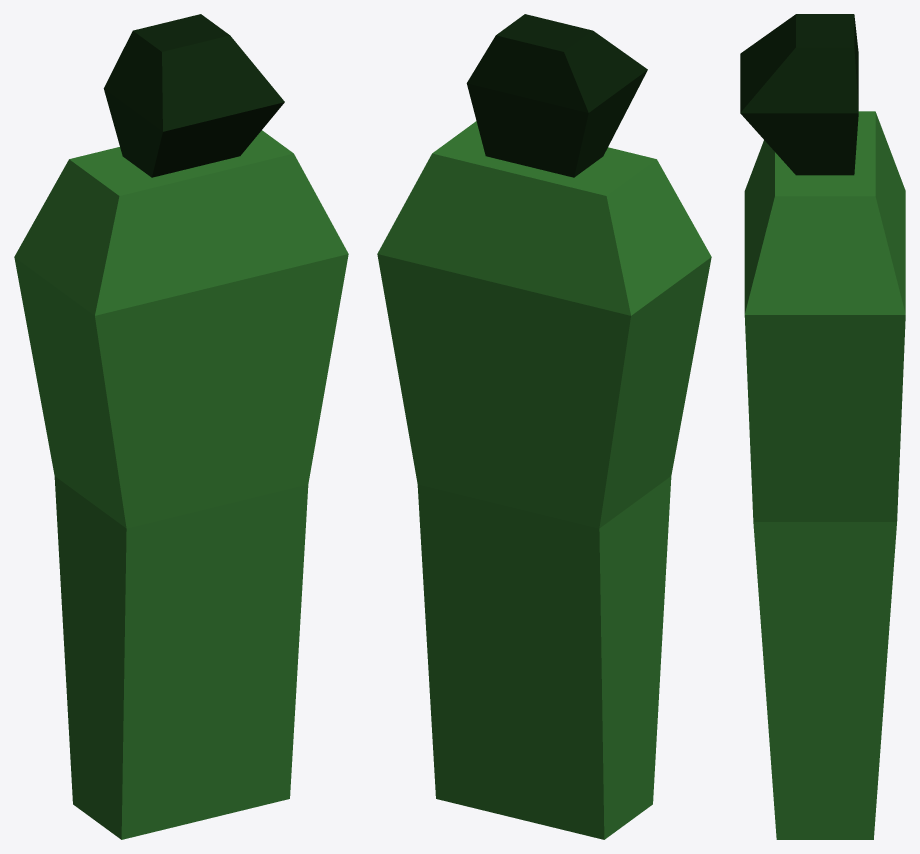
File: Shell.fbx
3 renders of one model, left to right at view 1: azimuth 30°, elevation 25°; view 2: azimuth 150°, elevation 25°; view 3: azimuth 270°, elevation 25°, orthographic.
Parts seen in each view (by area): view 1: Shell; view 2: Shell; view 3: Shell.
Boxes of the visible parts, left/top/right/bottom form: Shell: left=14, top=14, right=348, bottom=839; Shell: left=377, top=14, right=711, bottom=839; Shell: left=740, top=14, right=905, bottom=839.
Bounding box in the file's own units: 60.3 × 174 × 34.08.
